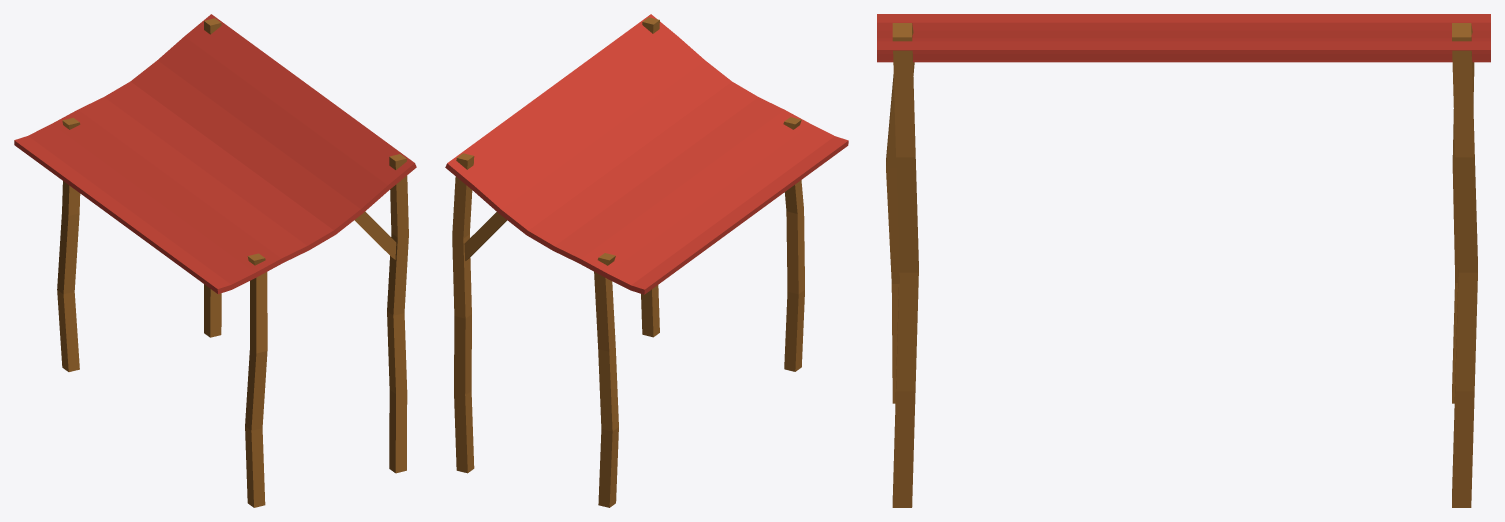
File: testtent.fbx
3 renders of one model, left to right at view 1: azimuth 30°, elevation 25°; view 2: azimuth 150°, elevation 25°; view 3: azimuth 270°, elevation 25°, orthographic. The views are drawn at different scales.
Visible parts, largest first — view 1: Plane.018; view 2: Plane.018; view 3: Plane.018.
Boxes of the visible parts, x1,y1,x2,y2 form: Plane.018: [14, 14, 416, 507]; Plane.018: [445, 14, 848, 507]; Plane.018: [877, 14, 1490, 507].
Bounding box in the file's own units: 494 × 739 × 874.
